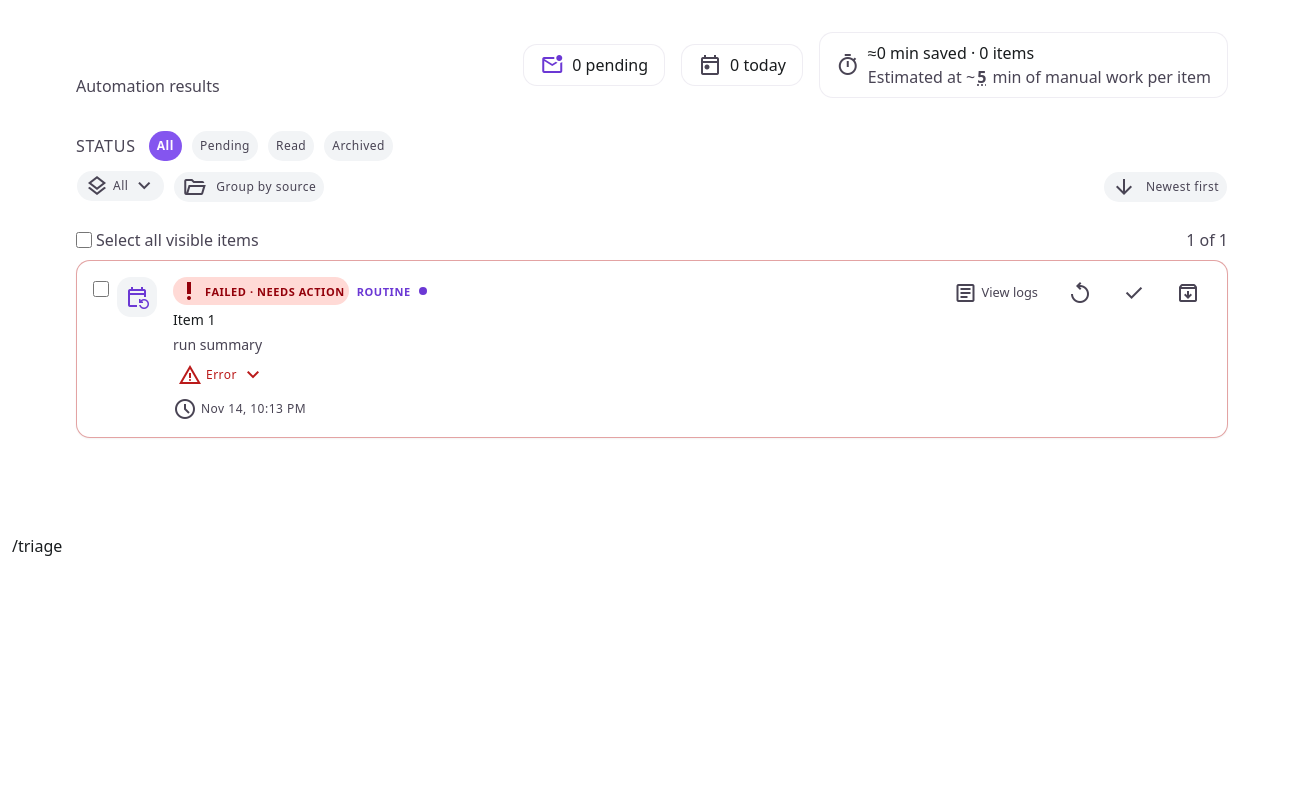
it: Triage page (inbox) › error items expose an expandable error detail
Expected: the text "cargo audit exited with code 2" is not shown
Click the button "Error" at (222, 375), box [173,359,270,391]
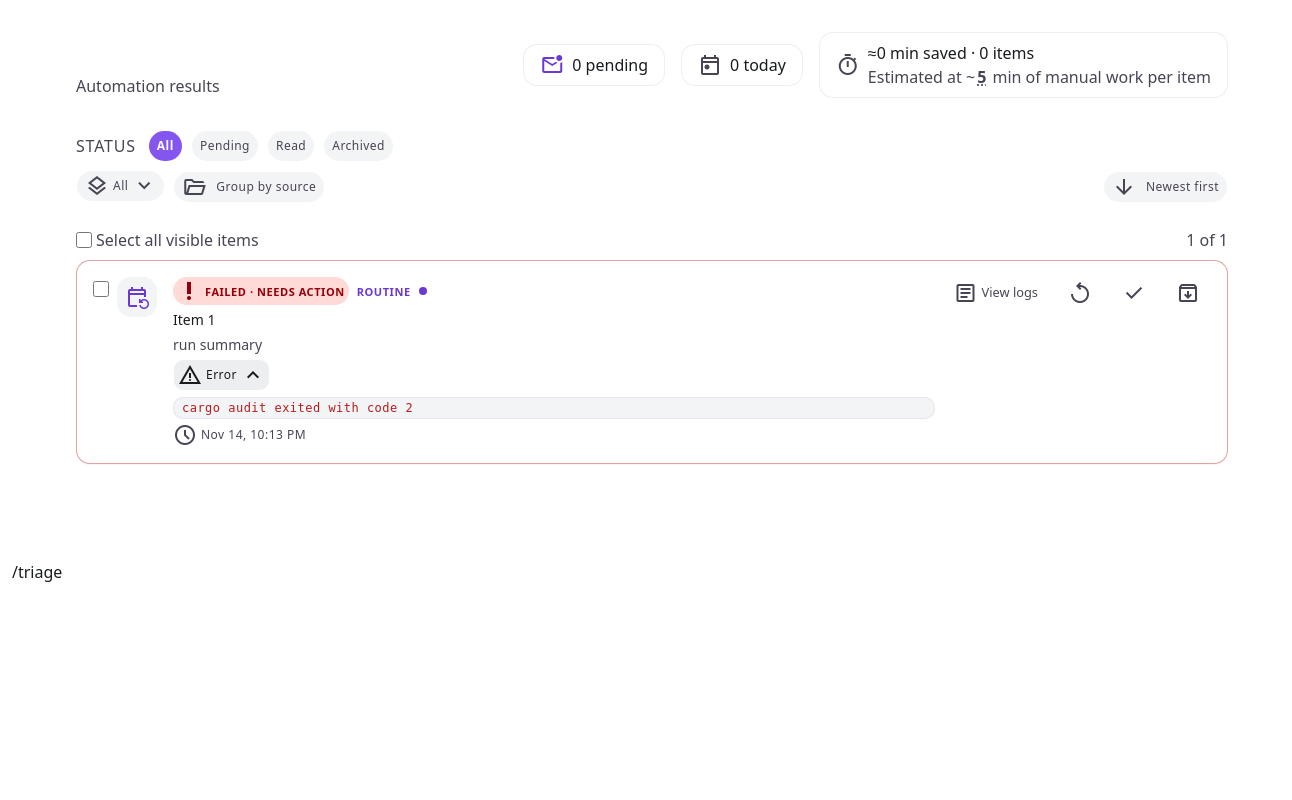
Expected: the button "Error" is expanded, [173,359,270,391]
Expected: the text "cargo audit exited with code 2" is shown, [173,397,935,419]
